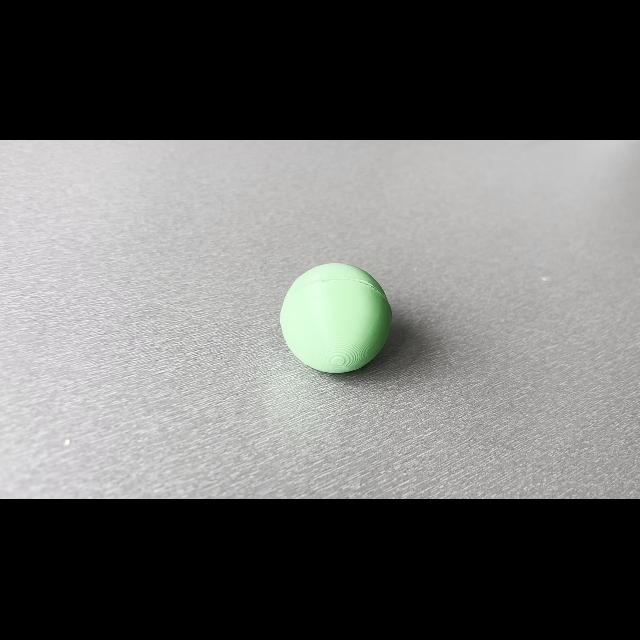objects: (276, 256, 398, 378)
